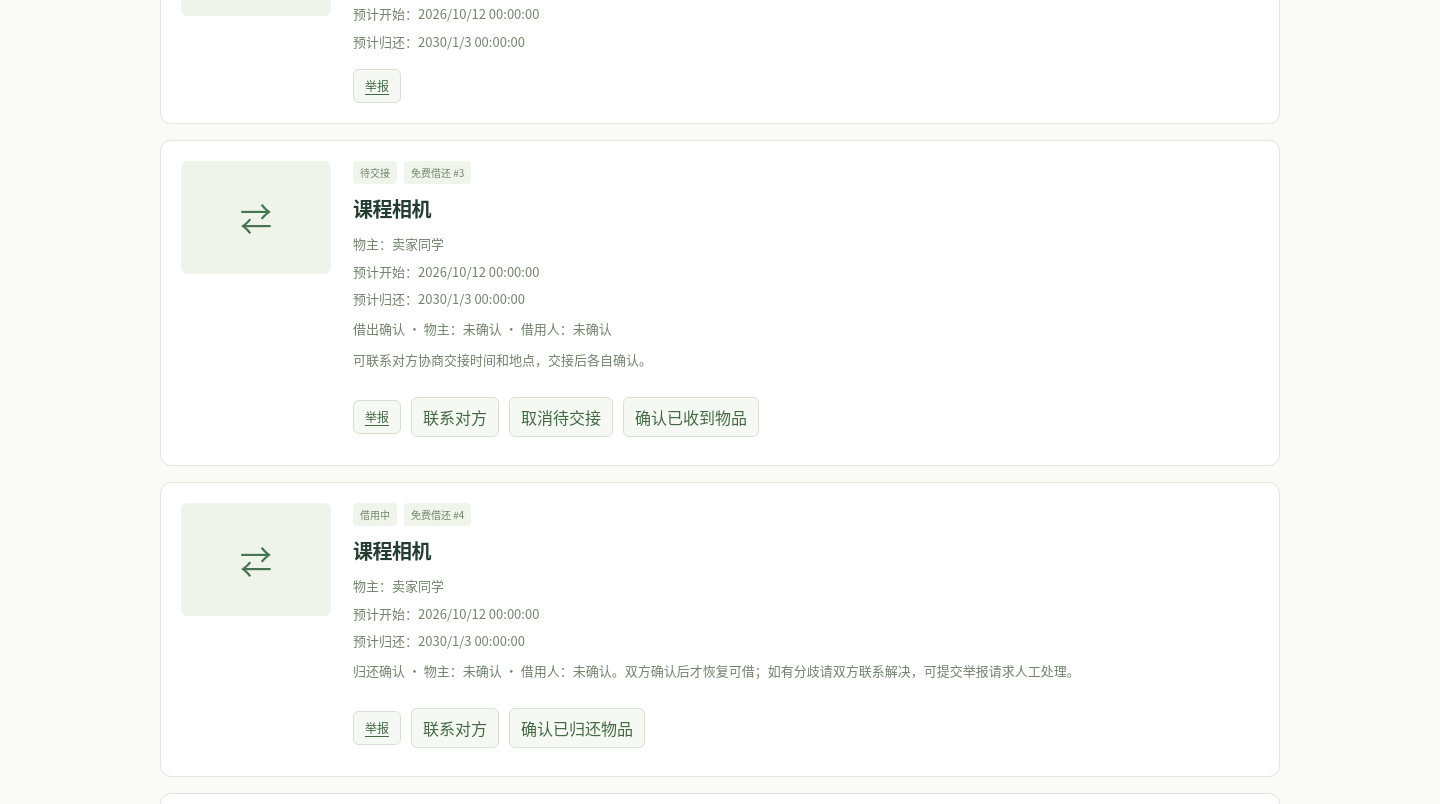
借还记录只在同意及后续阶段展示联系入口，并使用申请 ID
(page scrolled)
Click the button "联系对方" below "可联系对方协商交接时间和地点，交接后各自确认。" at (455, 417), box [411, 397, 499, 437]
(page scrolled)
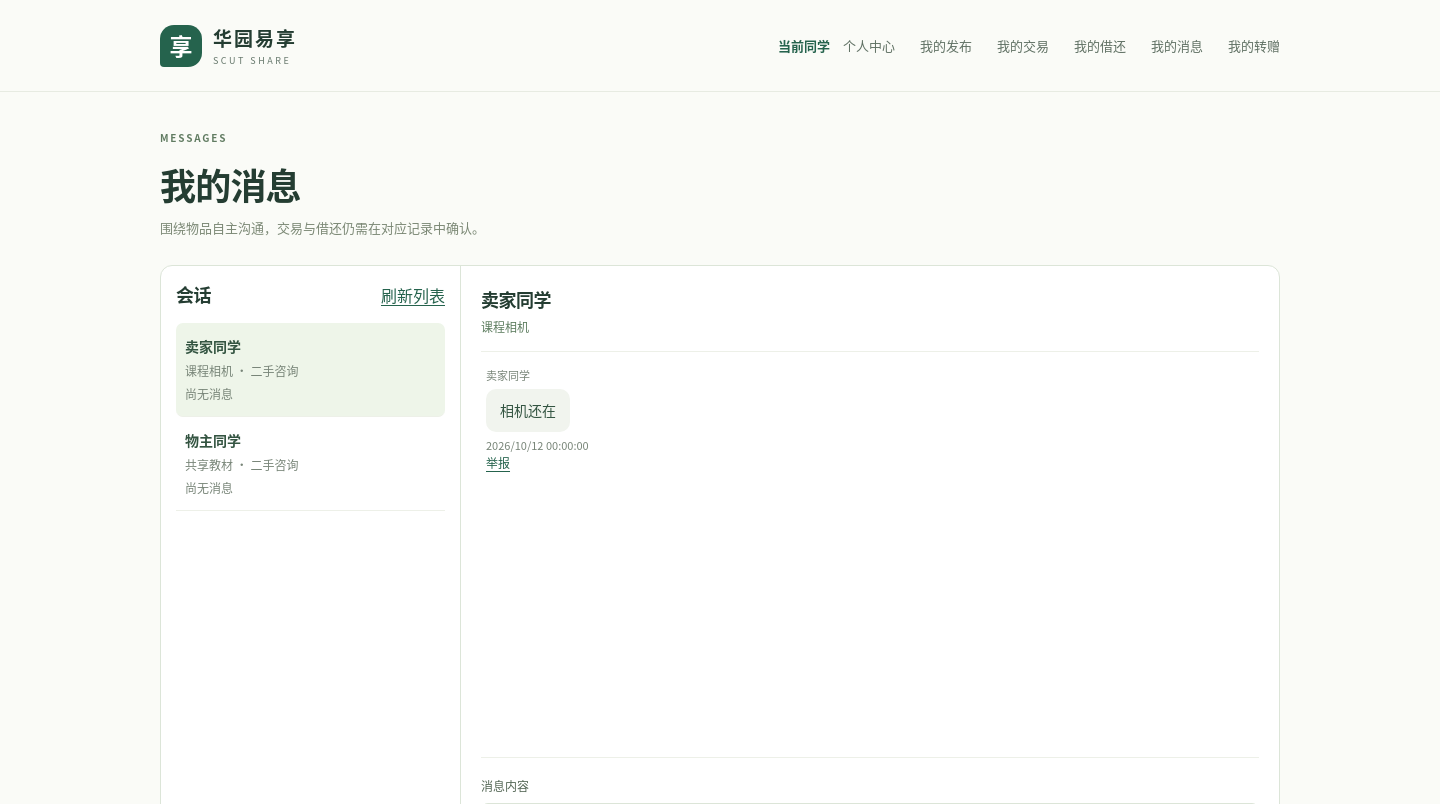
expect the text "相机还在" is shown: met, box [486, 389, 570, 432]
